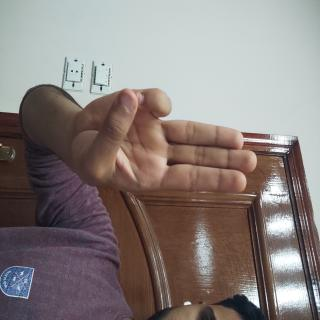THA: (62, 86, 161, 320)
